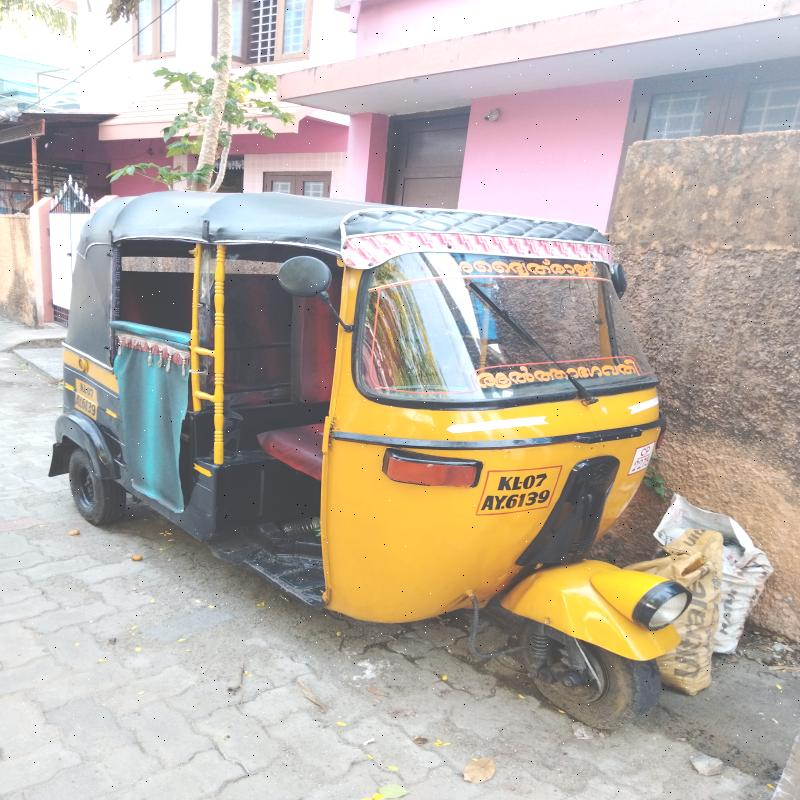auto: (74, 196, 709, 693)
